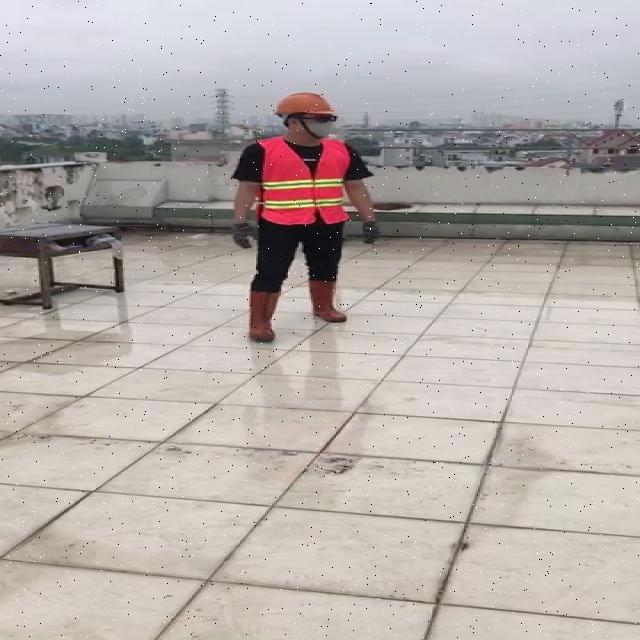Hard_hat: (272, 88, 344, 124)
Person: (228, 86, 387, 367)
Vest: (257, 136, 350, 228)
